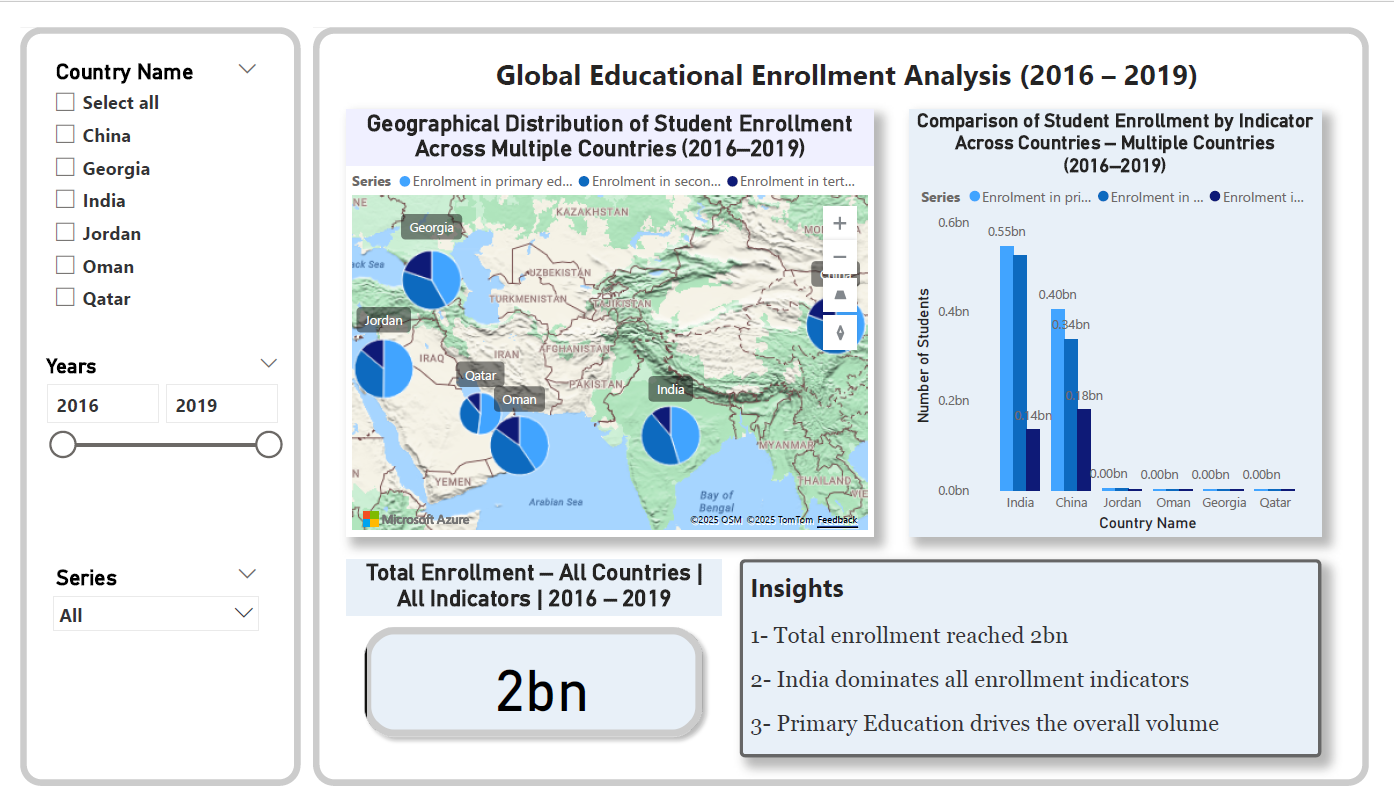

What the dashboard file says about the page in this screenshot:
{"tool":"powerbi","page":{"name":"OverView","canvas":[1280,720],"ordinal":0},"visuals":[{"type":"shape","box":[277.9,0,1002.2,720],"z":0},{"type":"shape","box":[0,0,266.2,720.4],"z":1000},{"type":"slicer","fields":{"Values":["Data.Country Name"]},"box":[20.6,24.7,216.8,267.6],"z":2000},{"type":"slicer","fields":{"Values":["Data.Series"]},"box":[20.6,505,216.8,160.5],"z":3000},{"type":"slicer","fields":{"Values":["Data.Years"]},"box":[12.3,304.6,244.3,200.3],"z":4000},{"type":"azureMap","fields":{"Category":["Data.Country Name"],"Size":["Sum(Data.Value)"],"Series":["Data.Series"]},"box":[300.5,78.2,509.1,404.8],"z":5000},{"type":"cardVisual","fields":{"Data":["Sum(Data.Number Of Students)"]},"box":[300.5,505,365,205.8],"z":6000},{"type":"clusteredColumnChart","fields":{"Category":["Data.Country Name"],"Y":["Sum(Data.Number Of Students)"],"Series":["Data.Series"]},"box":[843.9,78.2,408.9,404.8],"z":7000},{"type":"textbox","box":[289.5,20.6,990.7,68.6],"z":8000},{"type":"textbox","box":[683.4,505,569.5,190.7],"z":9000}]}

Visuals, with their boxes in screenshot pixels (x1, y1, x2, y2), scaled from the page's 1280x720 canvas onto the 1395x805 screenshot:
shape: select_region(303, 0, 1394, 804)
shape: select_region(0, 0, 290, 804)
slicer - Data.Country Name: select_region(22, 28, 259, 327)
slicer - Data.Series: select_region(22, 565, 259, 744)
slicer - Data.Years: select_region(13, 341, 280, 565)
azureMap - Data.Country Name x Sum(Data.Value): select_region(327, 87, 882, 540)
cardVisual - Sum(Data.Number Of Students): select_region(327, 565, 725, 795)
clusteredColumnChart - Data.Country Name x Sum(Data.Number Of Students): select_region(920, 87, 1365, 540)
textbox: select_region(316, 23, 1394, 100)
textbox: select_region(745, 565, 1365, 778)
